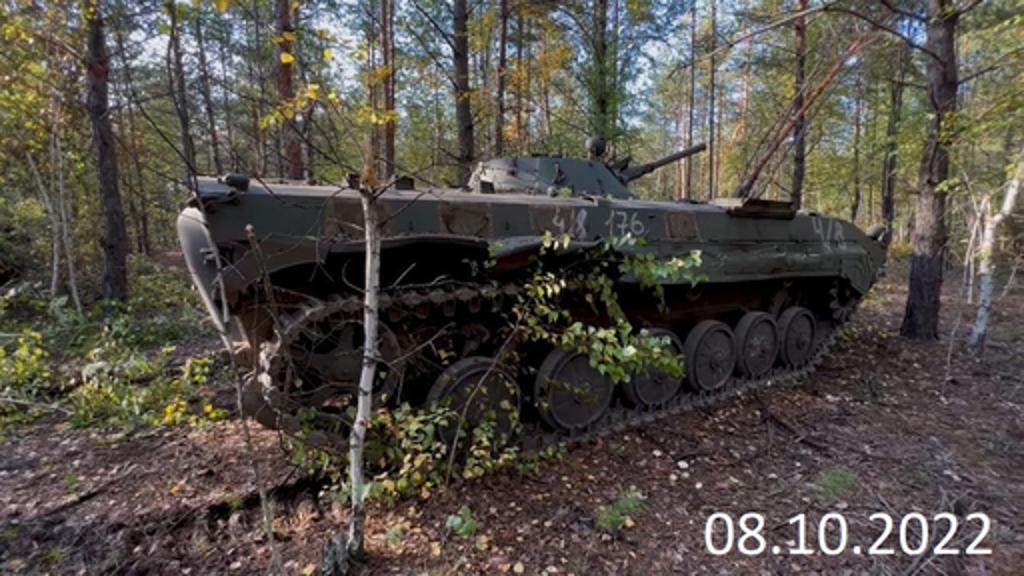APC-IFV: (162, 128, 890, 492)
